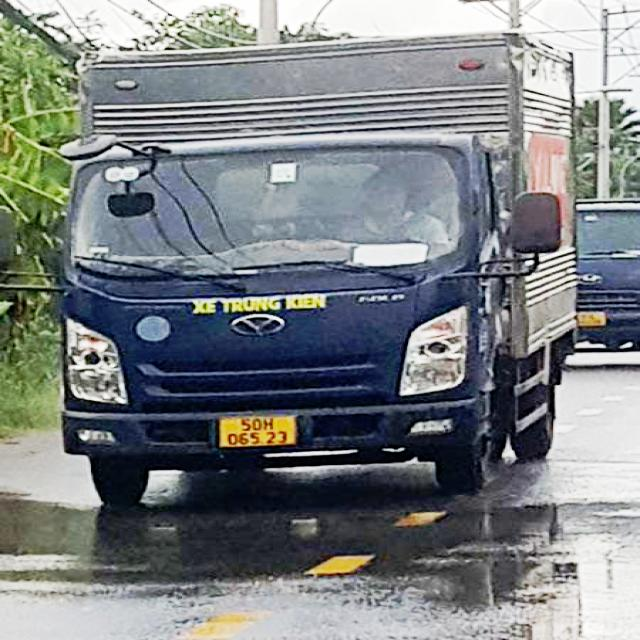license_plate: (218, 416, 296, 449)
